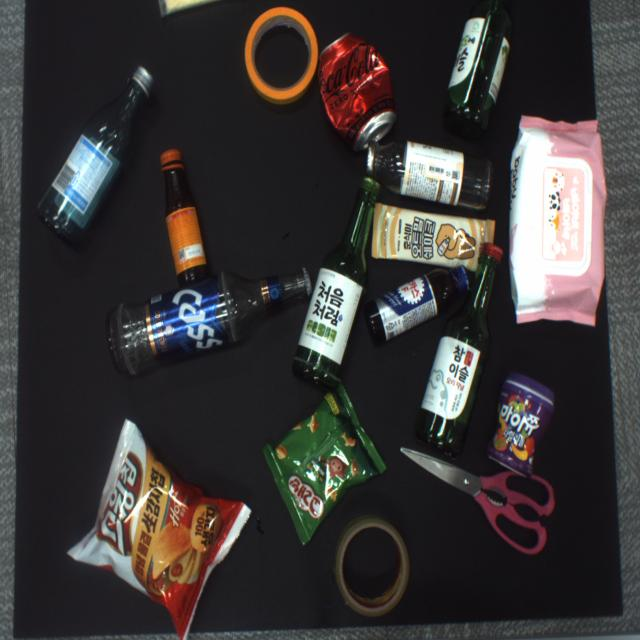beer-bottle: (108, 267, 313, 376)
soju-bottle: (37, 66, 156, 247), (414, 242, 504, 460), (291, 175, 381, 391), (447, 0, 514, 127)
